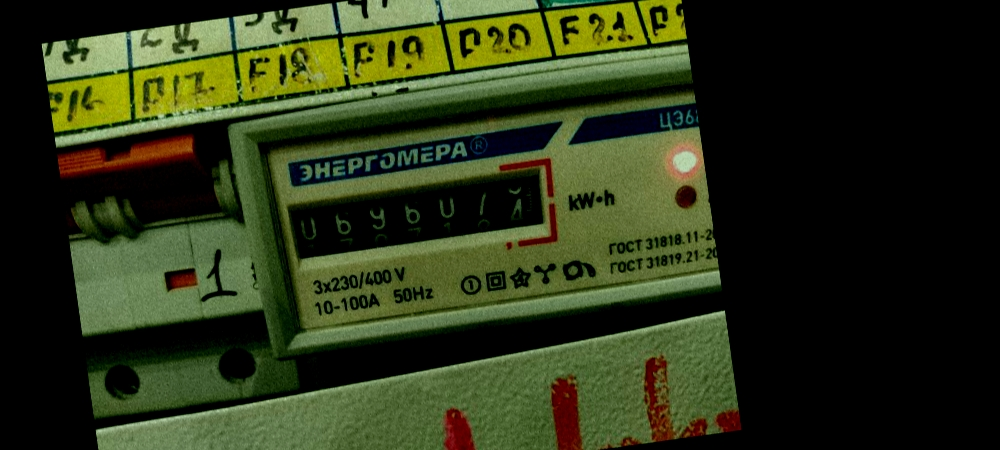0: (298, 212, 322, 244), (437, 189, 460, 222)
4: (505, 196, 528, 226)
6: (331, 206, 357, 239), (402, 196, 425, 227)
7: (472, 186, 493, 218)
9: (368, 202, 390, 233)
screen: (270, 152, 565, 280)
